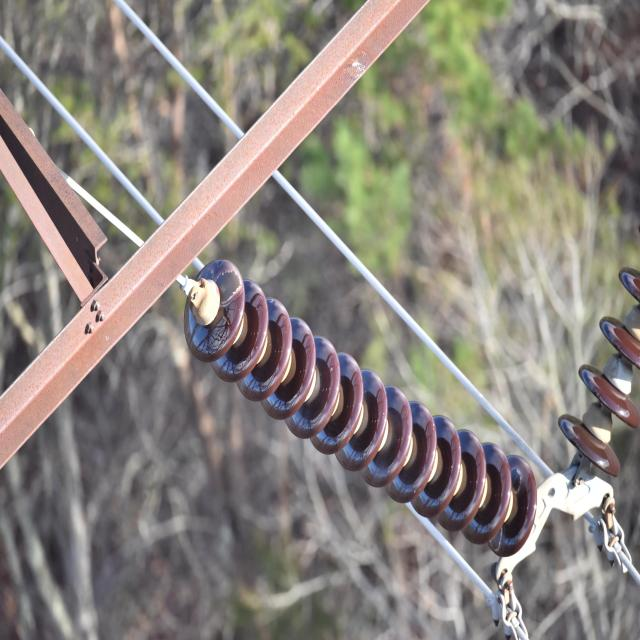insulator: (183, 258, 536, 556), (559, 263, 640, 477)
